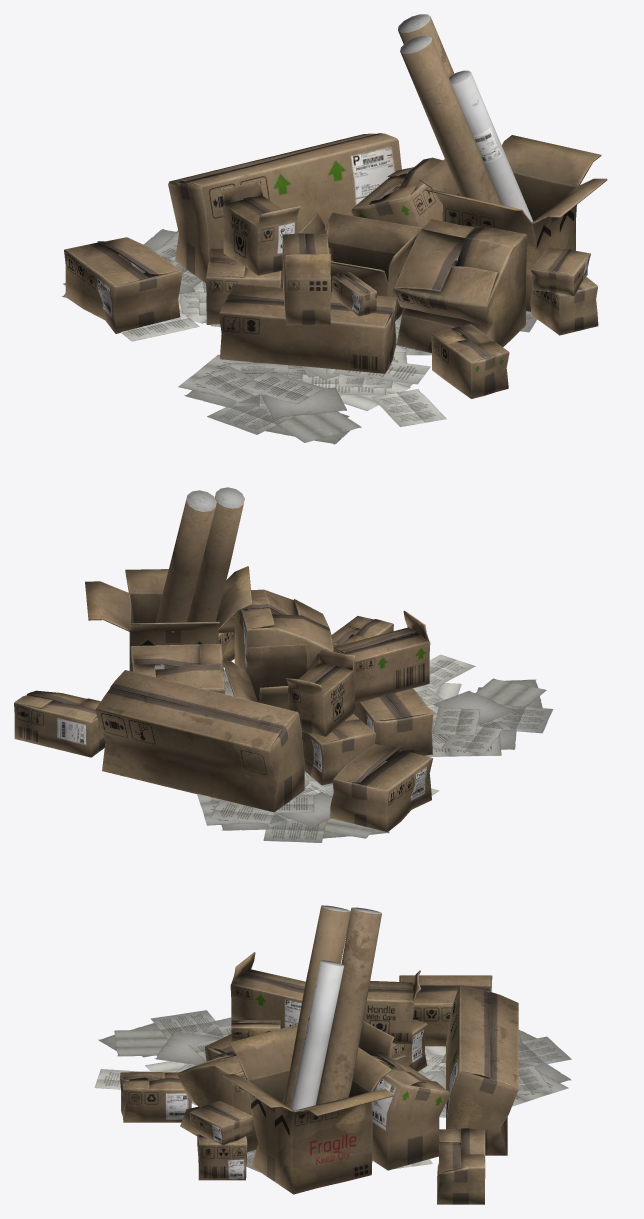
Rendered from old_paper_cardboard_boxes.glb.
The picture shows the model from 3 angles, top to bottom: view 1: azimuth 30°, elevation 25°; view 2: azimuth 150°, elevation 25°; view 3: azimuth 270°, elevation 25°; orthographic projection. The views are drawn at different scales.
Visible parts, largest first — view 1: Object_2, Object_3; view 2: Object_2, Object_3; view 3: Object_2, Object_3.
Part boxes in pixels (<box>): Object_2: <box>64,14,607,398</box>; Object_3: <box>62,229,536,444</box>; Object_2: <box>14,487,433,831</box>; Object_3: <box>197,654,553,842</box>; Object_2: <box>120,905,518,1204</box>; Object_3: <box>94,1010,571,1172</box>.
Bounding box in the file's own units: 3.68 × 1.78 × 4.22.
Materials: 2 (2 with a texture image).
